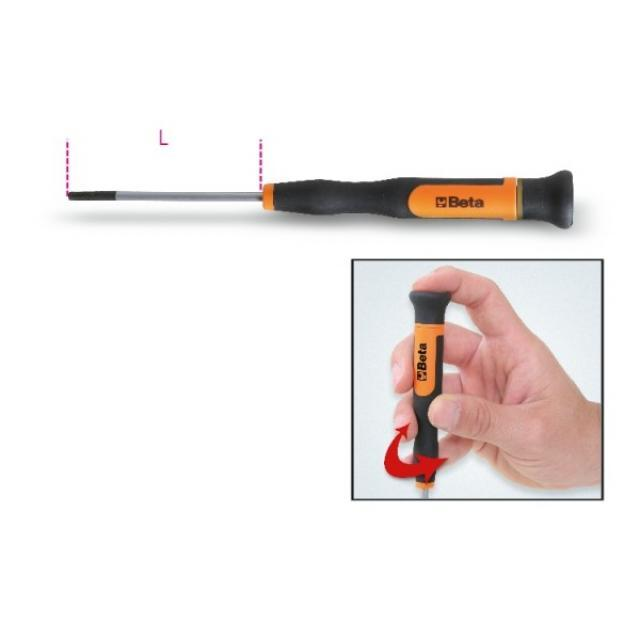screwdriver: (44, 172, 583, 234)
